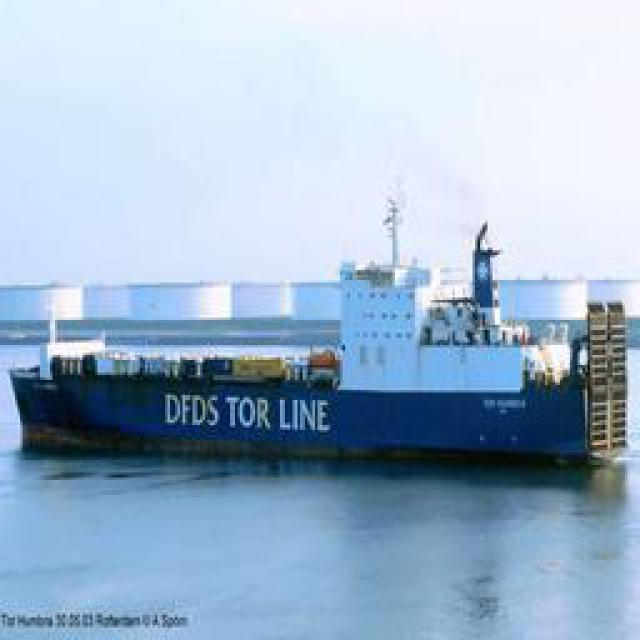Ship: (16, 236, 601, 464)
